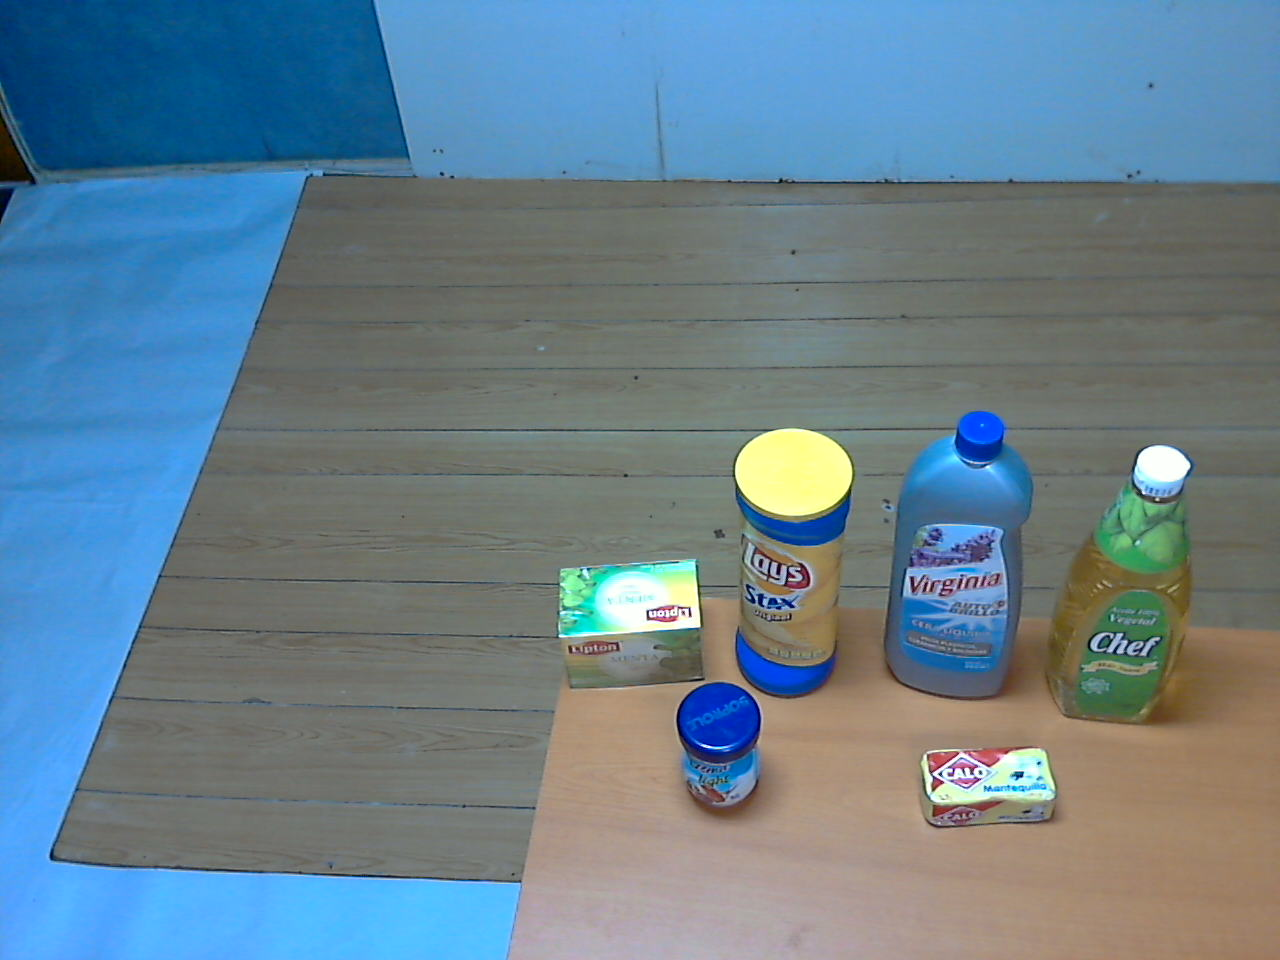aceite: (1044, 426, 1208, 741)
cera: (877, 400, 1036, 710)
crema: (671, 678, 771, 823)
mantequilla: (907, 737, 1063, 836)
papas: (724, 417, 863, 710)
te: (546, 556, 717, 689)
